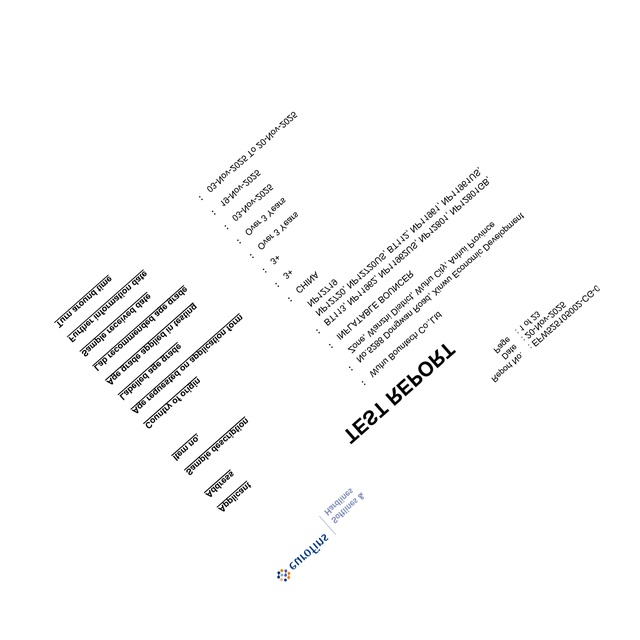eurofins: (268, 530, 330, 585)
